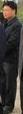boots: (2, 106, 13, 114), (0, 105, 8, 112)
